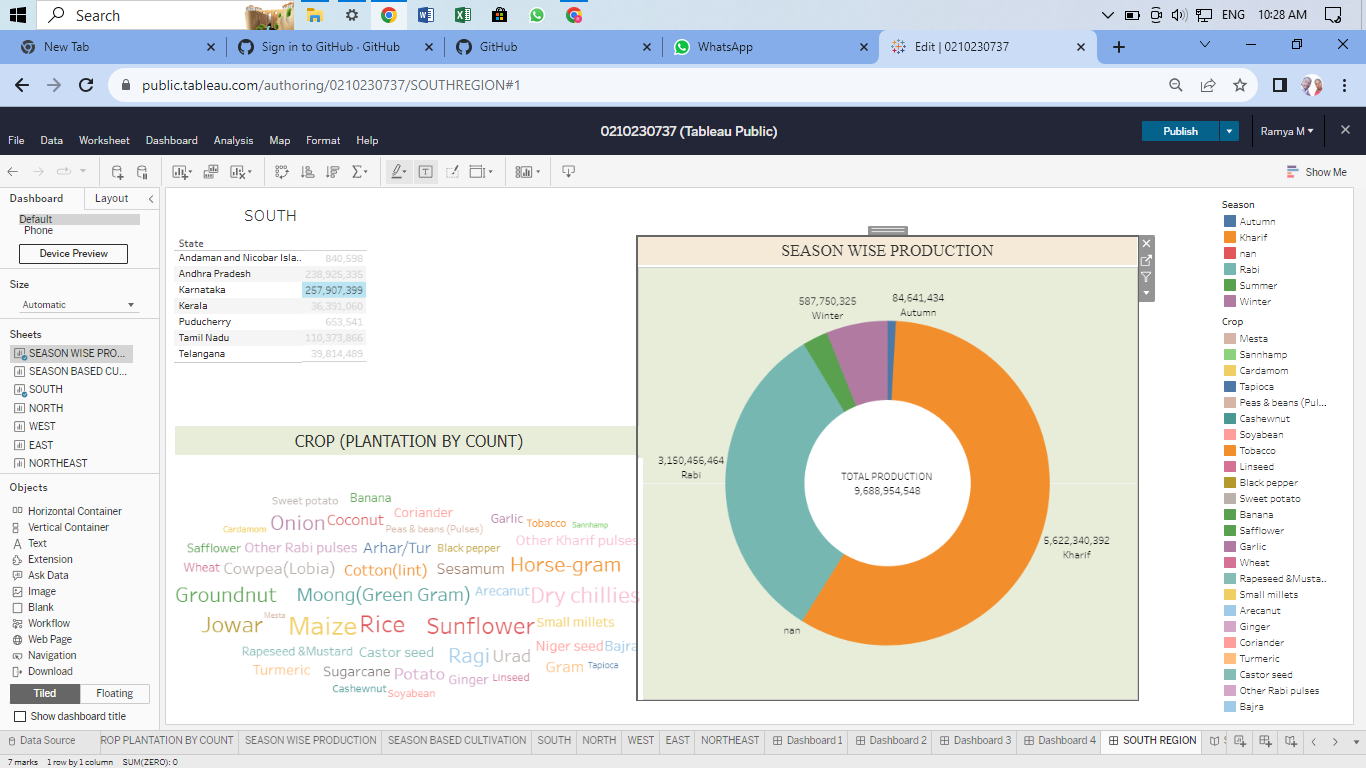

This screenshot's page, from the dashboard's own definition file:
{"tool":"tableau","page":{"name":"SOUTH REGION","canvas":[1000,1000],"units":"permille","ordinal":4},"visuals":[{"type":"legend","title":"SEASON WISE PRODUCTION","param":"[federated.0jbw6hw00qi6cd12y6h290paafz2].[none:Season:nk]","box":[886.8,11.9,107.8,219.4]},{"type":"worksheet","title":"SOUTH","mark":"Automatic","rows":["State"],"box":[6.8,21.6,179.8,405.3]},{"type":"worksheet","title":"SEASON WISE PRODUCTION","mark":"Pie","rows":["Calculation_102175416908763138","Calculation_102175416908763138"],"box":[397.8,91.4,420.7,863.8]},{"type":"legend","title":"CROP PLANTATION BY COUNT","param":"[federated.0jbw6hw00qi6cd12y6h290paafz2].[none:Crop:nk]","box":[886.8,231.3,107.8,756.7]}]}

Visuals, with their boxes on the dashboard's canvas, which has no fixed pixel size, in thousandths of its width and height (x1, y1, x2, y2). These are canvas units, not pixel positions in the 1366x768 screenshot, which may show the page scaled, cropped or inside an application window:
"SEASON WISE PRODUCTION" legend: box=[887, 12, 995, 231]
"SOUTH" worksheet: box=[7, 22, 187, 427]
"SEASON WISE PRODUCTION" worksheet (Pie marks): box=[398, 91, 818, 955]
"CROP PLANTATION BY COUNT" legend: box=[887, 231, 995, 988]
